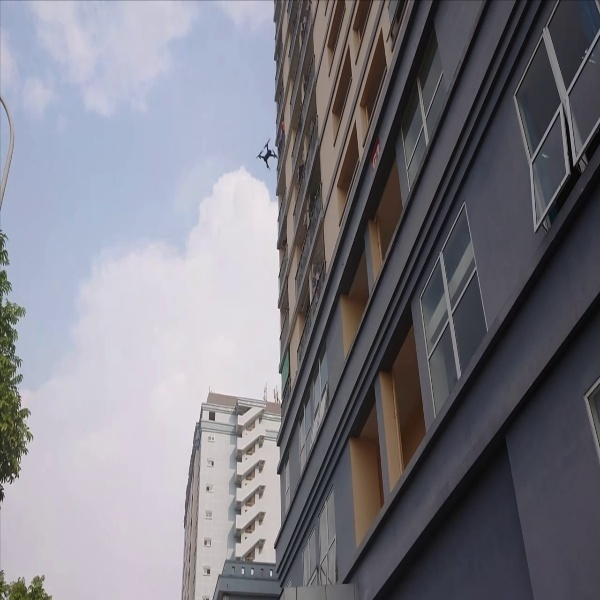drone: (252, 134, 279, 174)
